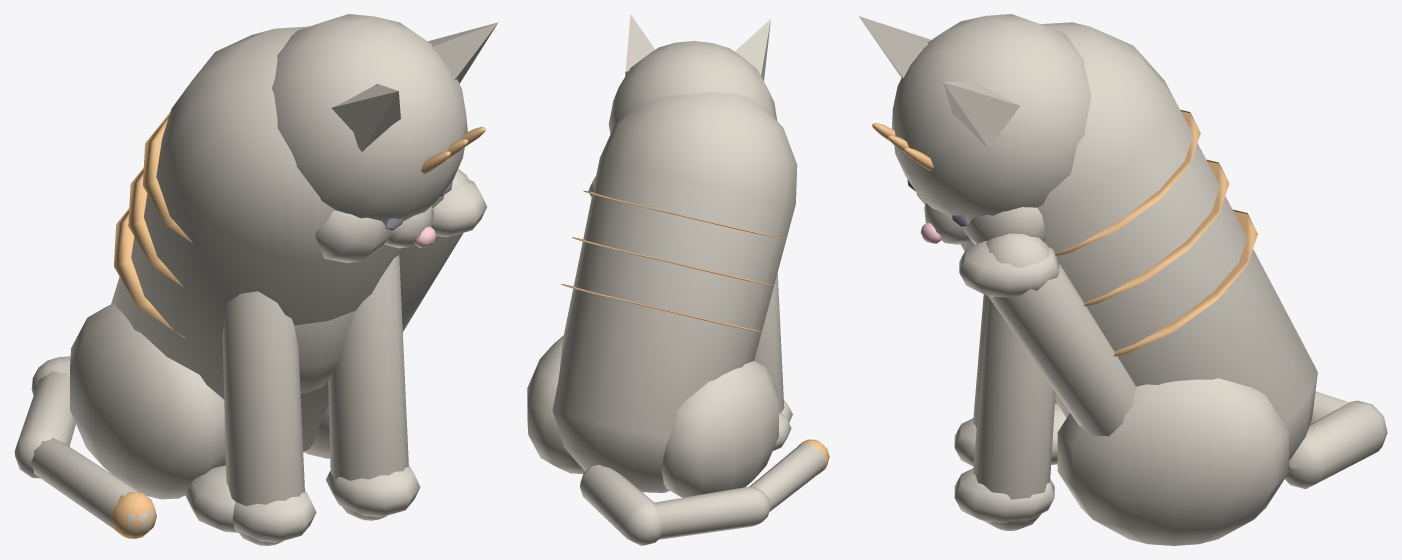
File: companion-animals-and-pet-home-cat-grooming-calico-c309939f__20565.glb
3 renders of one model, left to right at view 1: azimuth 30°, elevation 25°; view 2: azimuth 150°, elevation 25°; view 3: azimuth 270°, elevation 25°, orthographic. The views are drawn at different scales.
Visible parts, largest first — view 1: cat-grooming-calico; view 2: cat-grooming-calico; view 3: cat-grooming-calico.
Boxes of the visible parts, box(x1,y1,x2,y2) form: cat-grooming-calico: box(14, 14, 498, 545); cat-grooming-calico: box(527, 14, 829, 545); cat-grooming-calico: box(858, 14, 1387, 545).
Size of the model in its own units: 0.3138 by 0.435 by 0.4216.
